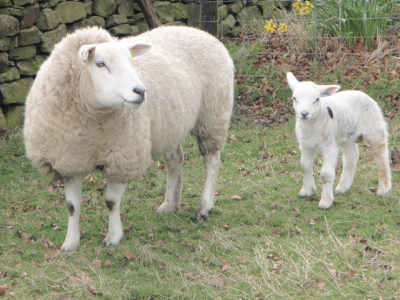koyun: (23, 24, 234, 253), (284, 72, 392, 208)
